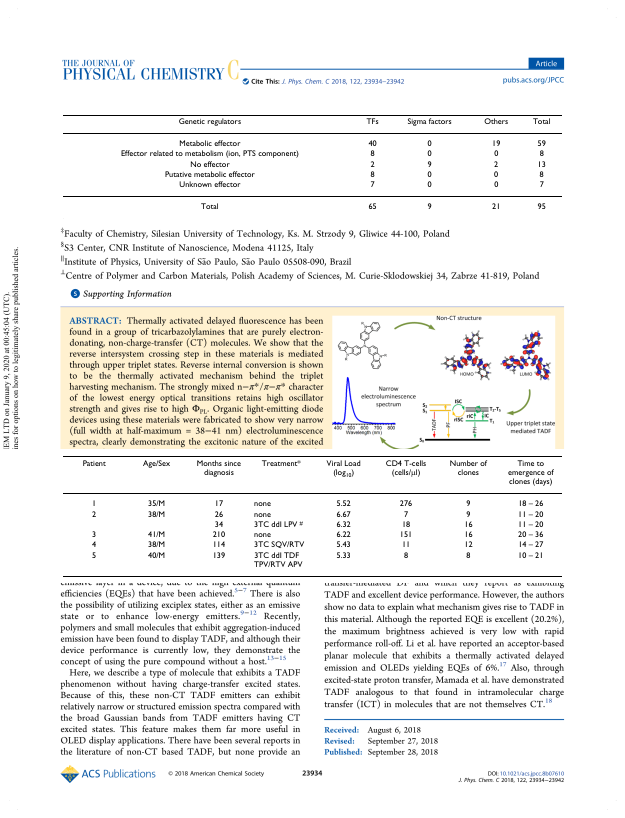borderless: (62, 454, 562, 576), (61, 113, 563, 220)
cell: (119, 150, 299, 160), (506, 458, 554, 487), (253, 550, 303, 569), (384, 457, 427, 479), (163, 170, 255, 180), (195, 458, 241, 477), (325, 458, 361, 479), (448, 458, 487, 477), (177, 117, 242, 127), (178, 140, 241, 149), (178, 181, 241, 190), (253, 540, 305, 550), (253, 519, 303, 529), (406, 117, 452, 127), (260, 458, 301, 468), (189, 160, 230, 170), (141, 458, 171, 468), (517, 499, 544, 509), (517, 509, 544, 519), (517, 530, 544, 540), (517, 540, 544, 550), (517, 550, 544, 560), (483, 117, 509, 127), (81, 458, 106, 468), (517, 520, 544, 529), (531, 117, 551, 127), (147, 499, 166, 509), (147, 509, 166, 519), (147, 530, 166, 540), (147, 540, 166, 550), (147, 550, 166, 560), (200, 203, 219, 213), (253, 499, 271, 509), (253, 509, 271, 519), (253, 530, 271, 540), (335, 499, 351, 509), (335, 509, 351, 519), (335, 530, 351, 540), (335, 540, 351, 550), (335, 550, 351, 560), (398, 499, 413, 509), (211, 530, 226, 540), (398, 530, 413, 540), (211, 540, 226, 550), (211, 550, 226, 560), (335, 520, 351, 529), (365, 117, 379, 127), (213, 499, 224, 509), (213, 509, 224, 519), (400, 540, 411, 550), (463, 530, 473, 540), (463, 540, 473, 550), (536, 160, 546, 170), (367, 203, 377, 213), (491, 203, 501, 213), (536, 203, 546, 213), (213, 520, 224, 529), (400, 520, 411, 529), (463, 520, 473, 529), (367, 140, 377, 149), (491, 140, 501, 149), (536, 140, 546, 149), (402, 509, 409, 519), (402, 550, 409, 560), (91, 499, 97, 509), (465, 499, 471, 509), (91, 509, 97, 519), (465, 509, 471, 519), (91, 530, 97, 540), (91, 540, 97, 550), (91, 550, 97, 560), (465, 550, 471, 560), (369, 150, 375, 160), (426, 150, 432, 160), (493, 150, 499, 160), (538, 150, 544, 160), (369, 160, 375, 170), (426, 160, 432, 170), (493, 160, 499, 170), (369, 170, 375, 180), (426, 170, 432, 180), (493, 170, 499, 180), (538, 170, 544, 180), (426, 203, 432, 213), (426, 140, 432, 149), (369, 181, 375, 190), (426, 181, 432, 190), (493, 181, 499, 190), (538, 181, 544, 190)
